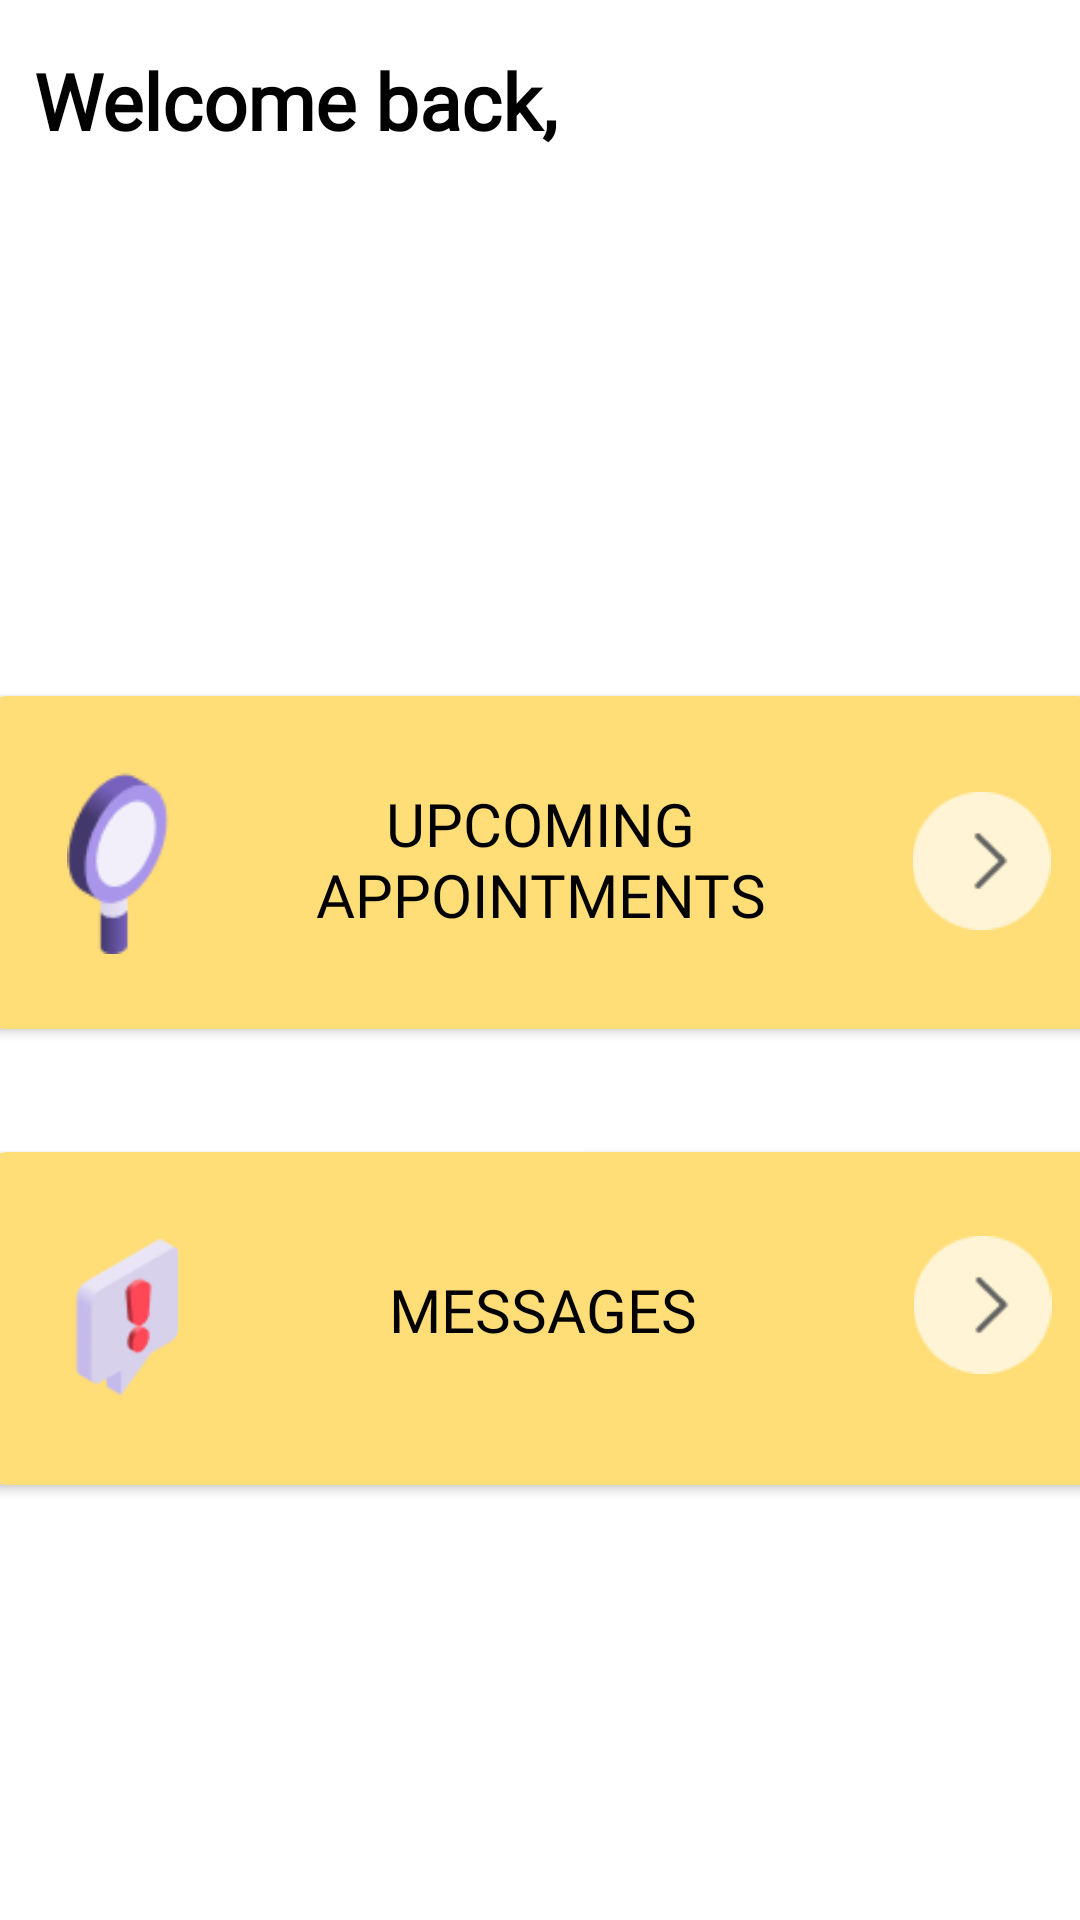

Locate icon controls on the screen. Image size 1080 x 1920, boxes as (x1, y1, x2, y2).
arrows: (913, 792, 1051, 930), (914, 1236, 1052, 1374)
